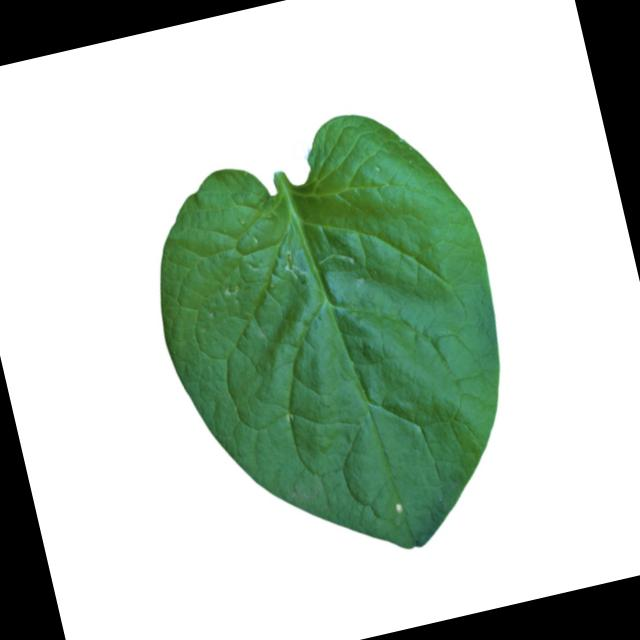Medicinal-Basale: (121, 88, 544, 592)
